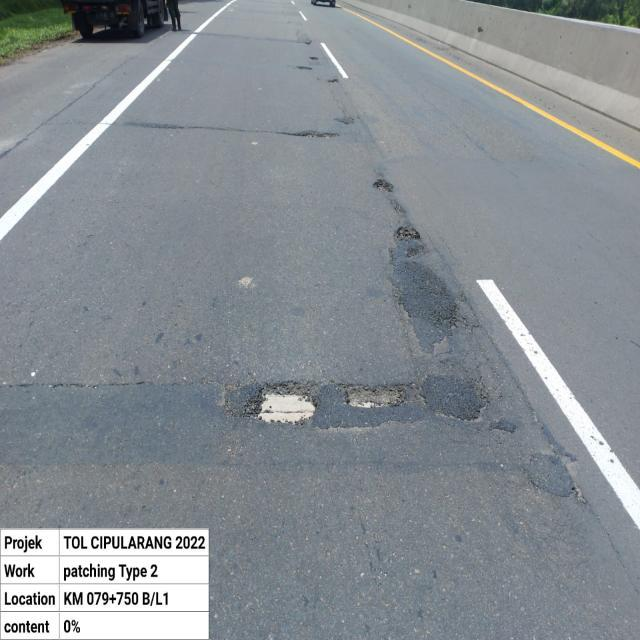Buraco: (238, 378, 324, 428), (332, 380, 430, 411), (274, 128, 343, 141), (390, 223, 423, 244), (370, 178, 396, 194), (295, 64, 315, 72), (325, 78, 341, 85), (307, 55, 321, 62), (303, 38, 314, 46)
